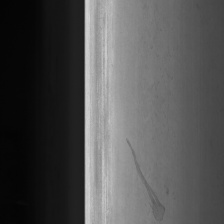water_spot: (135, 15, 176, 143), (123, 132, 174, 224)
